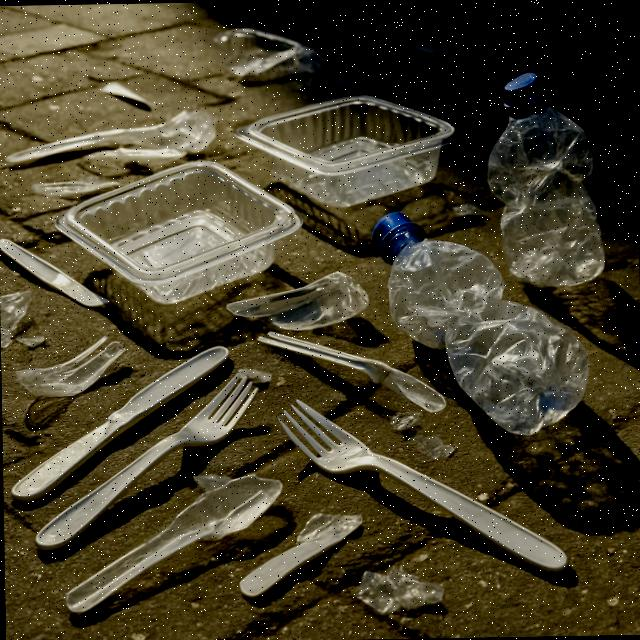plastic: (370, 207, 590, 440), (54, 158, 293, 304), (231, 74, 461, 210), (482, 71, 608, 286)
